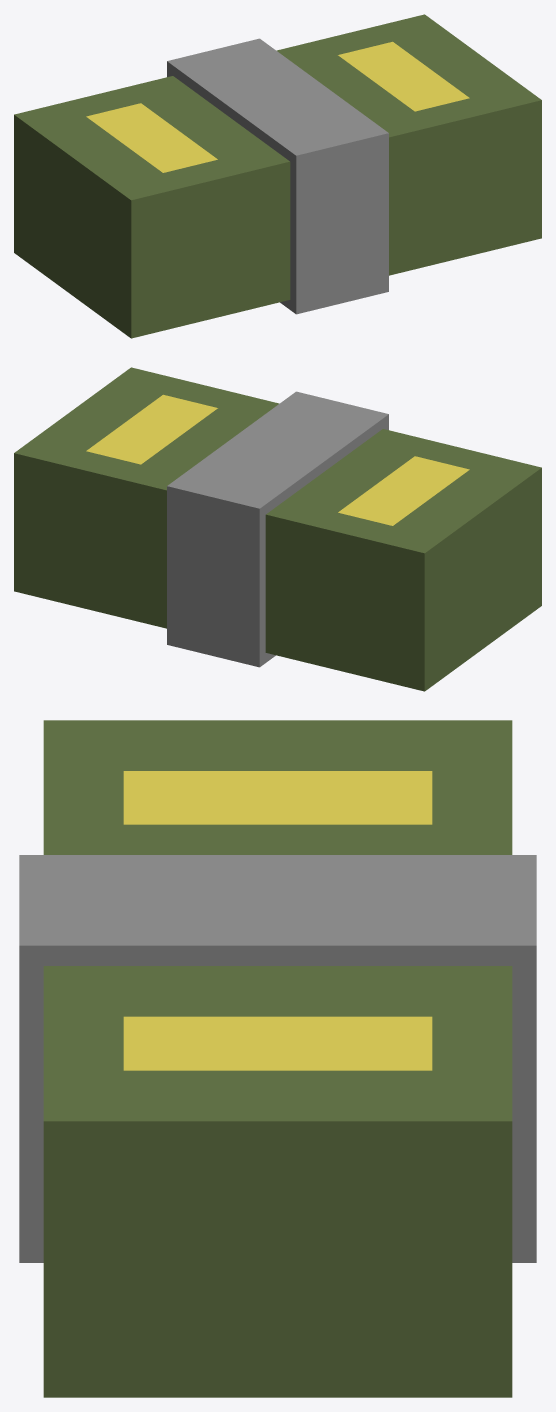
The model's file is Money.fbx.
3 views of the same model, one above another, from view 1: azimuth 30°, elevation 25°; view 2: azimuth 150°, elevation 25°; view 3: azimuth 270°, elevation 25° (orthographic). The views are drawn at different scales.
Visible parts, largest first — view 1: Money; view 2: Money; view 3: Money.
Part boxes in pixels (left/top/right/bottom): Money: left=14, top=14, right=541, bottom=338; Money: left=14, top=367, right=541, bottom=691; Money: left=19, top=720, right=536, bottom=1397.
Size of the model in its own units: 0.2625 by 0.0969 by 0.1431.
